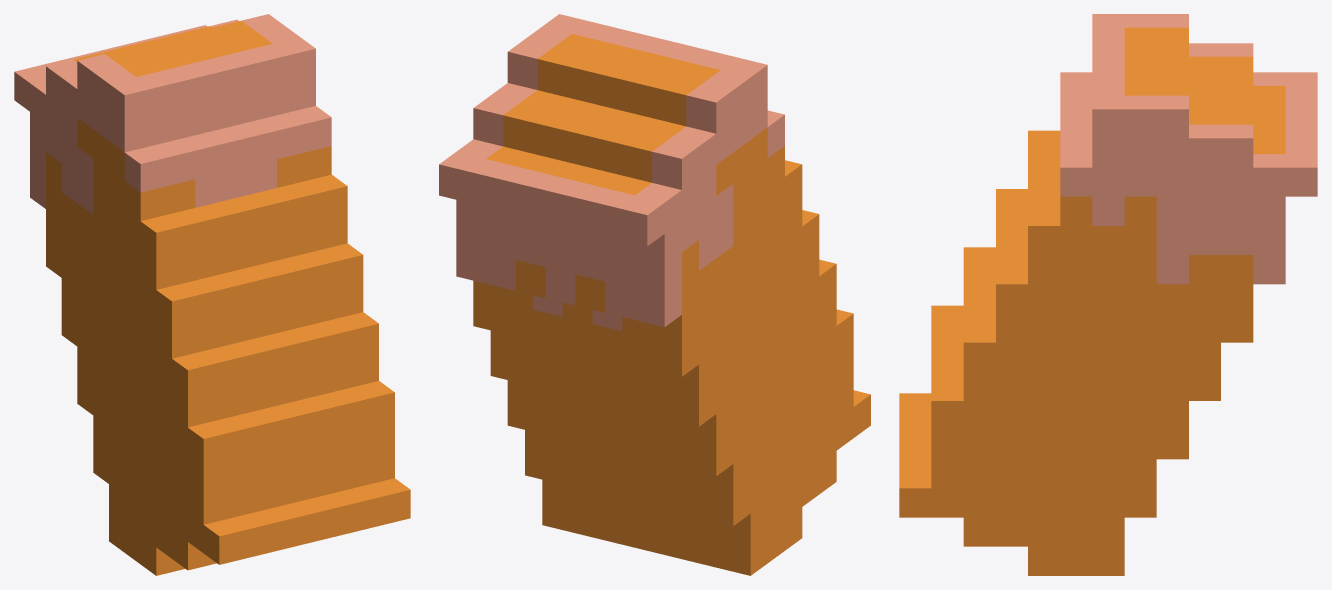
The model's file is deer-1.obj.
3 renders of one model, left to right at view 1: azimuth 30°, elevation 25°; view 2: azimuth 150°, elevation 25°; view 3: azimuth 270°, elevation 25°, orthographic. The views are drawn at different scales.
Size of the model in its own units: 0.7 by 1.6 by 1.3.
Materials: 1 (1 with a texture image).
